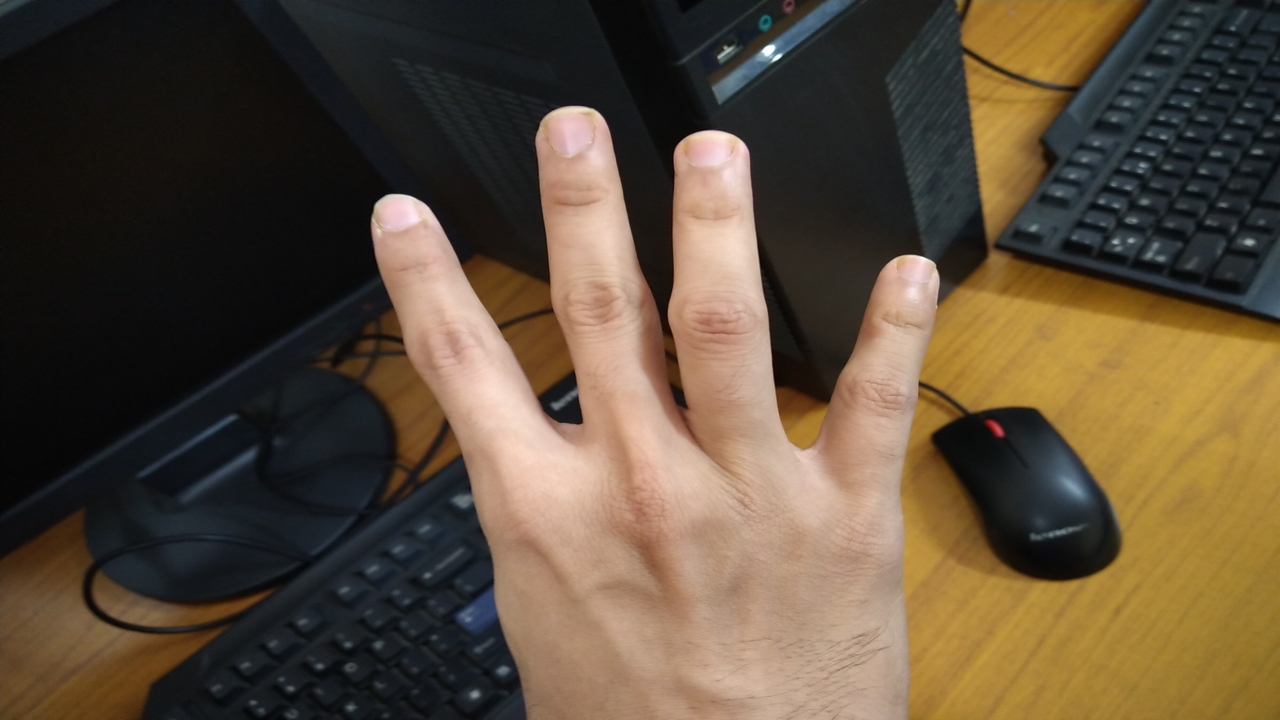fingertip: (668, 122, 756, 202), (526, 100, 612, 178), (870, 248, 954, 318), (360, 186, 438, 256)
